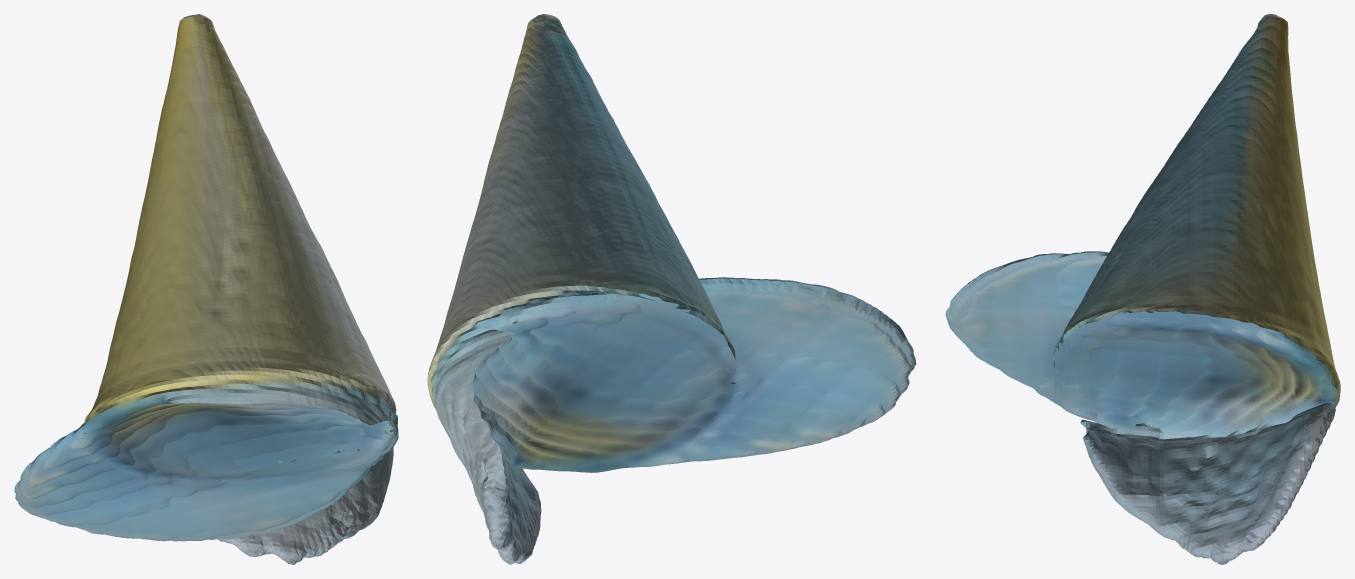
3 views of the same model, side by side, from view 1: azimuth 30°, elevation 25°; view 2: azimuth 150°, elevation 25°; view 3: azimuth 270°, elevation 25° (orthographic). The views are drawn at different scales.
Visible parts, largest first — view 1: geometry_0; view 2: geometry_0; view 3: geometry_0.
Part boxes in pixels (x1,y1,x2,y2): geometry_0: (14, 14, 398, 564); geometry_0: (427, 14, 916, 564); geometry_0: (945, 14, 1340, 564).
Bounding box in the file's own units: 1.19 × 1.6 × 1.11.
